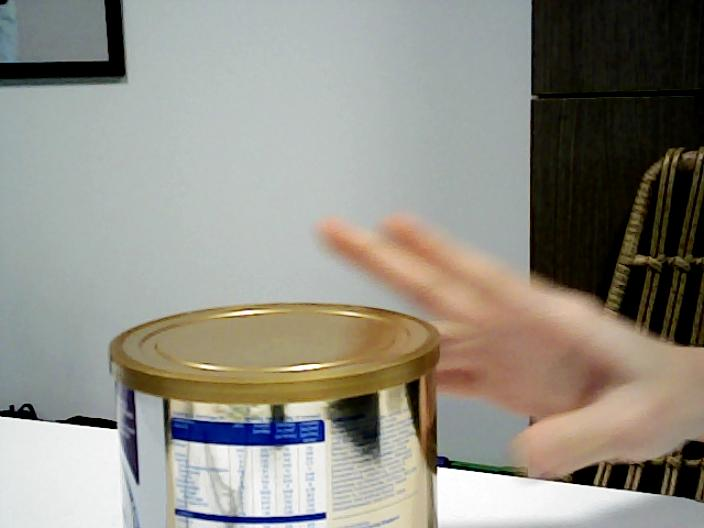MaternalMilkPowder_400-499g_NonHalal_Healthy: (106, 301, 441, 528)
